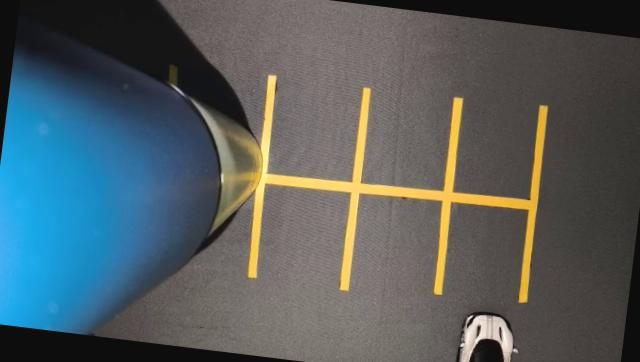toy_car: (422, 267, 540, 362)
